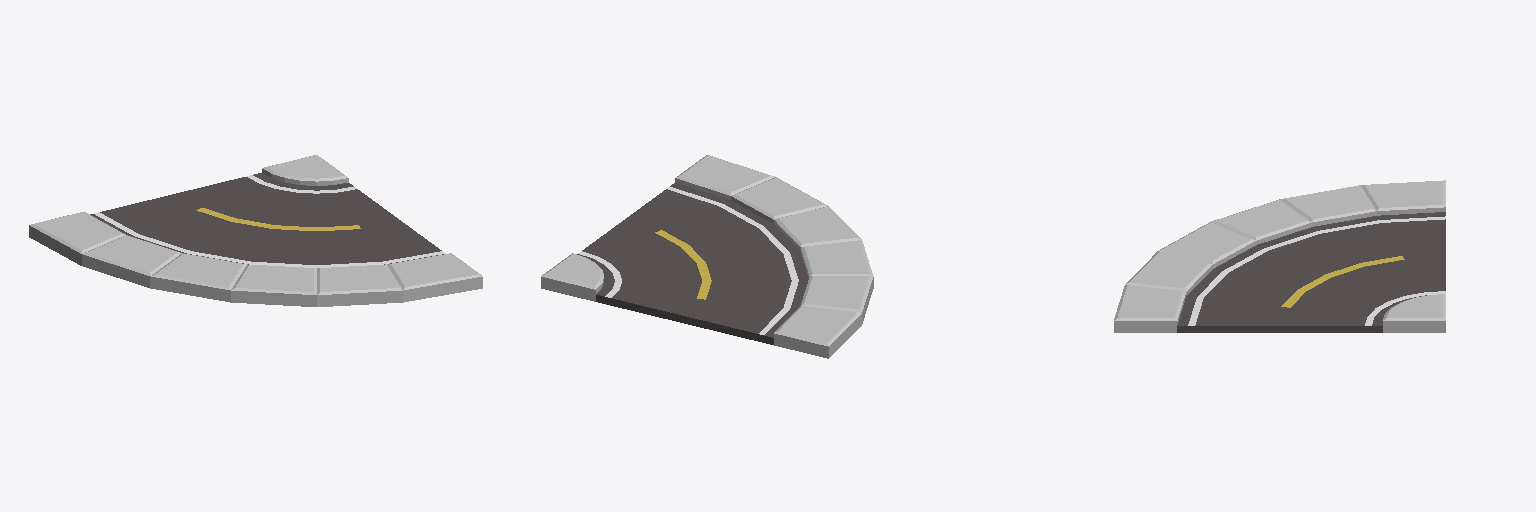
3 renders of one model, left to right at view 1: azimuth 30°, elevation 25°; view 2: azimuth 150°, elevation 25°; view 3: azimuth 270°, elevation 25°, orthographic.
Visible parts, largest first — view 1: corner1-col; view 2: corner1-col; view 3: corner1-col.
Boxes of the visible parts, x1=… form: corner1-col: x1=29, y1=155, x2=482, y2=306; corner1-col: x1=541, y1=155, x2=873, y2=358; corner1-col: x1=1114, y1=180, x2=1445, y2=332.
Bounding box in the file's own units: 10 × 0.45 × 10.
Materials: 4 (3 with a texture image).